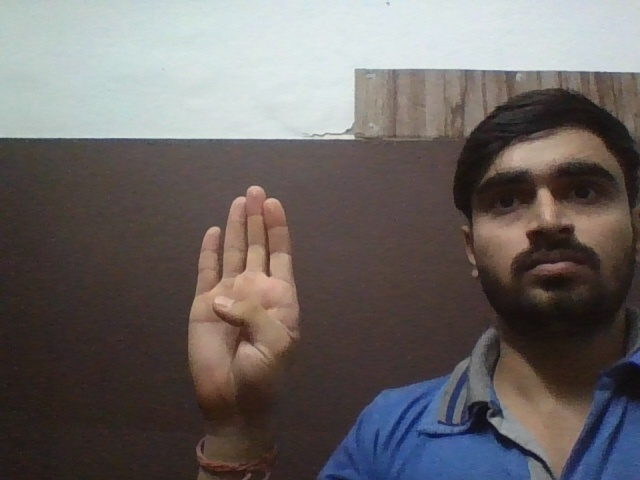B: (180, 184, 313, 404)
